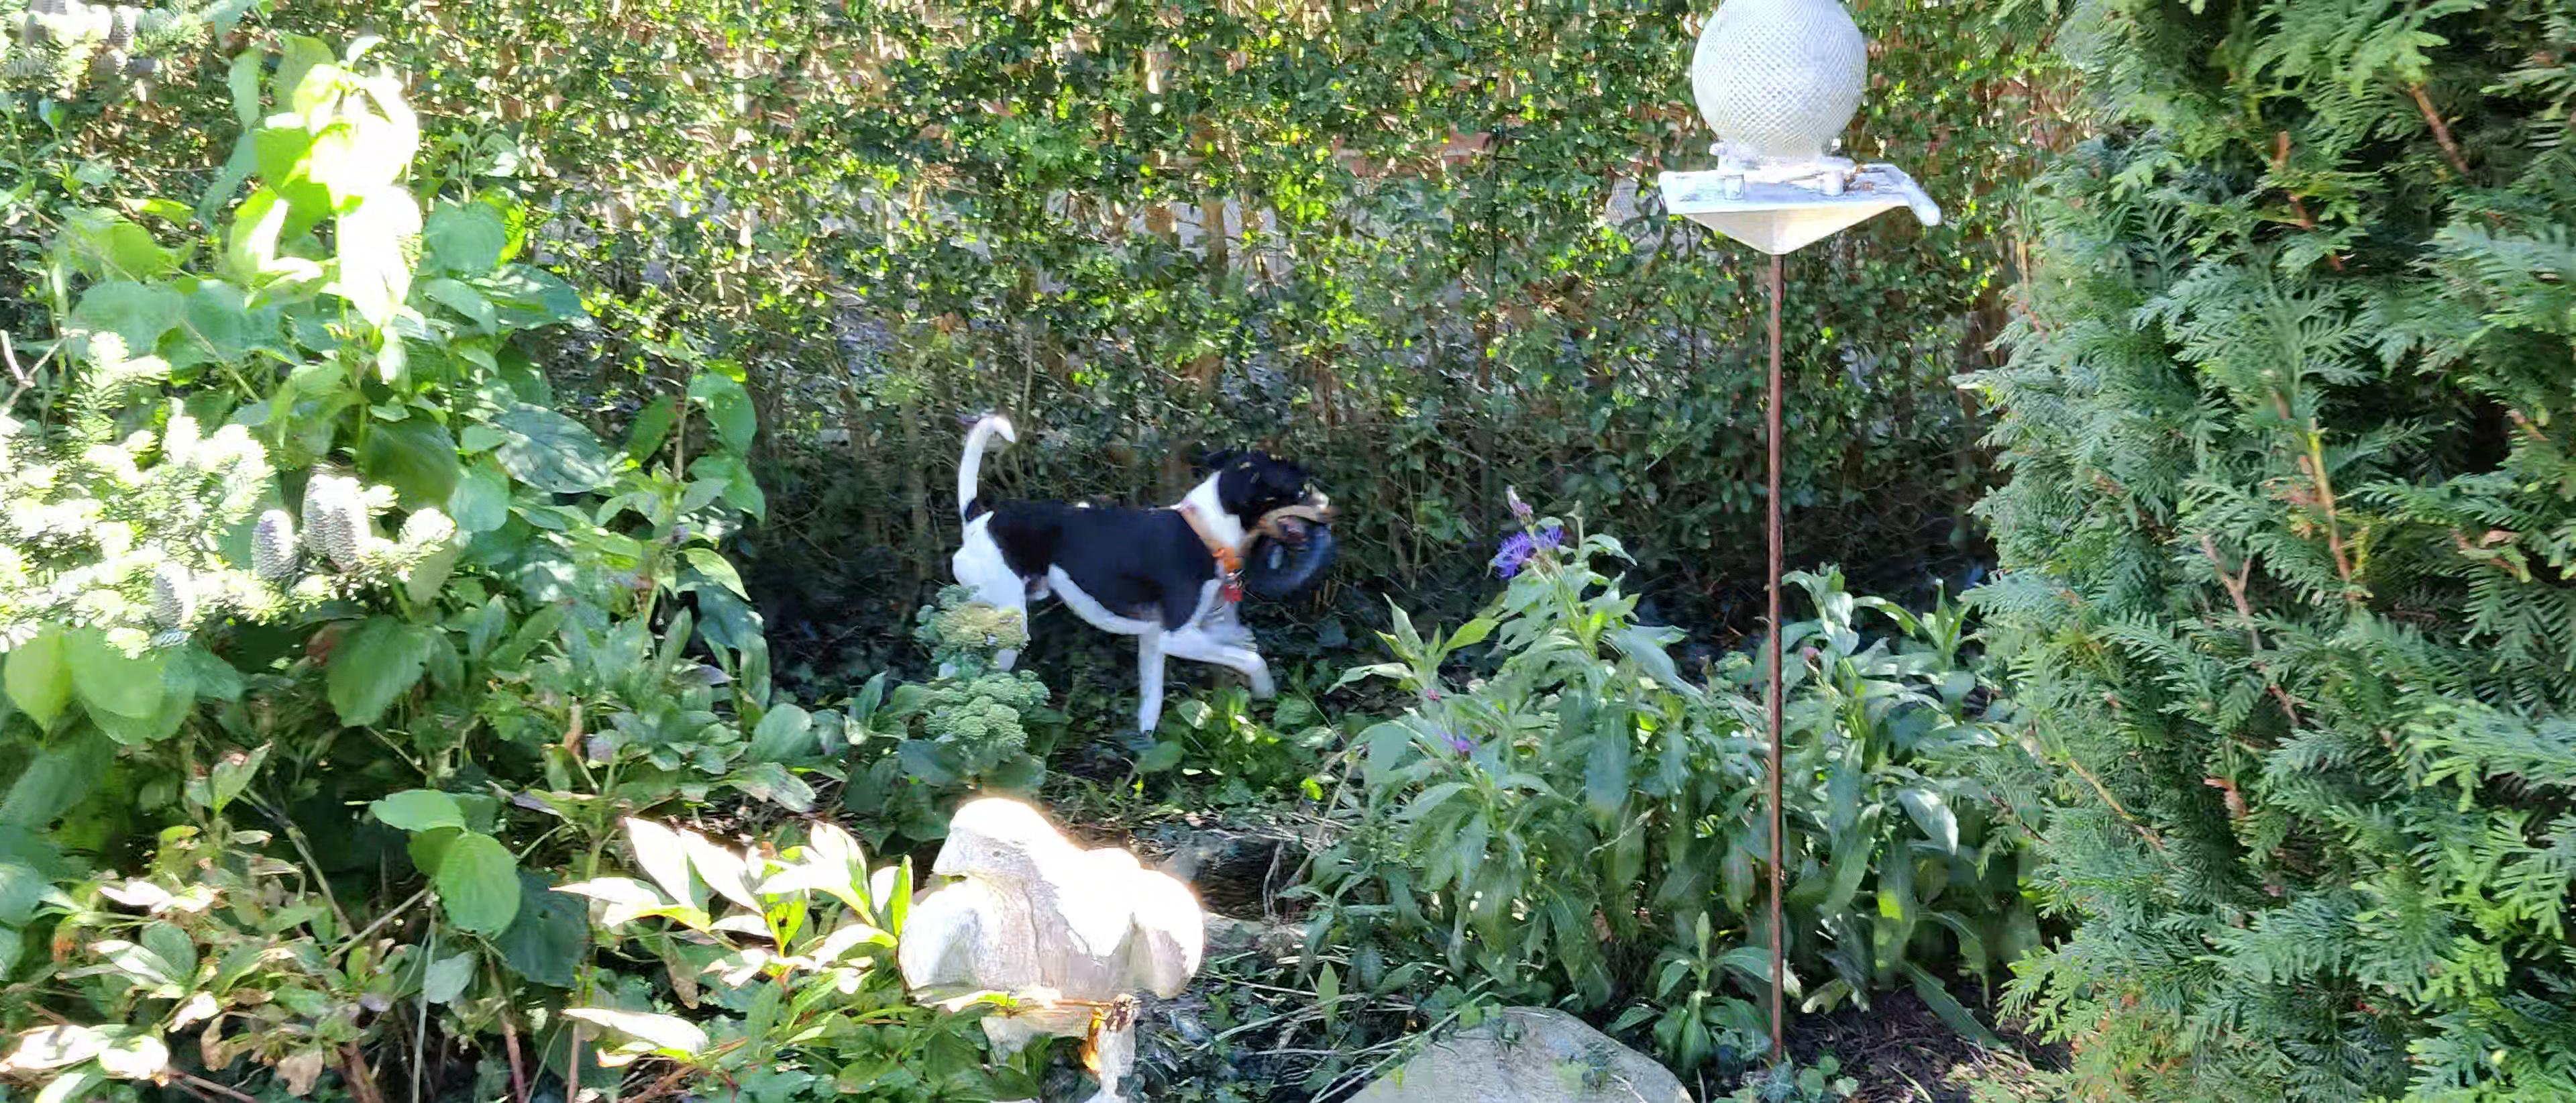Dog: (931, 411, 1344, 735)
